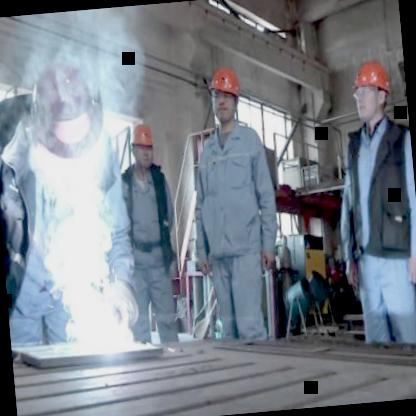helmet: (349, 54, 395, 127), (206, 60, 246, 126), (129, 116, 158, 174)
